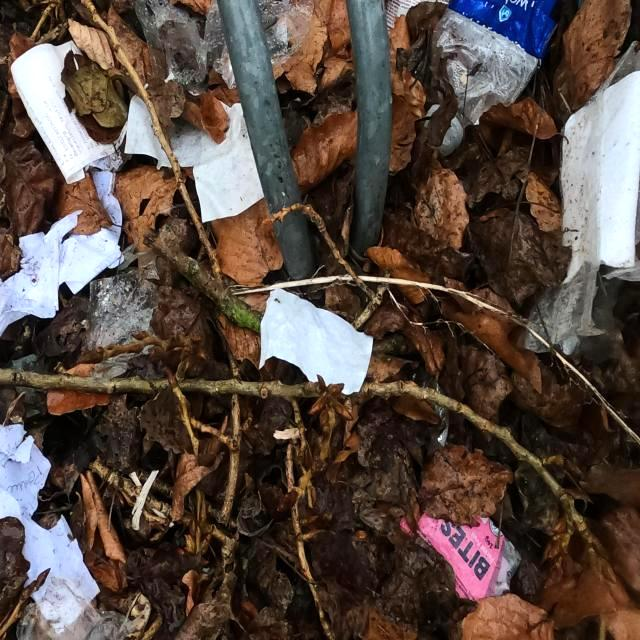Paper: (560, 68, 640, 286), (10, 38, 126, 184), (258, 287, 374, 397), (0, 208, 84, 338), (124, 94, 242, 170), (58, 168, 124, 296), (192, 115, 264, 223)
Plastic: (132, 0, 314, 96), (400, 512, 522, 604), (84, 258, 160, 384)
